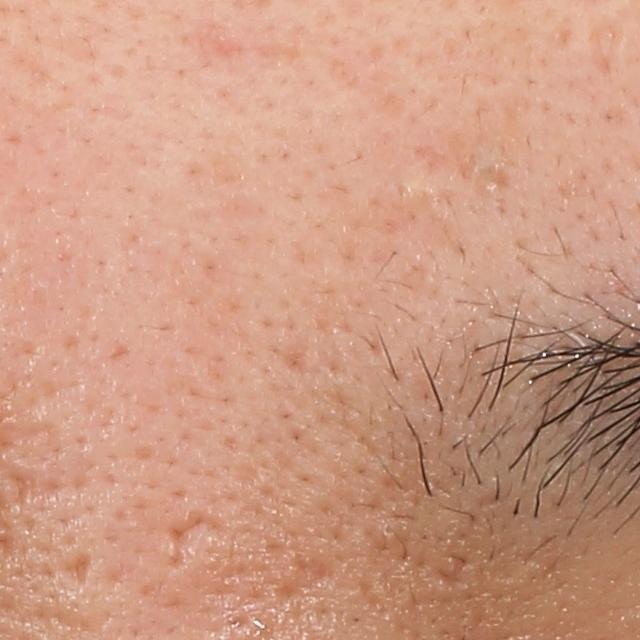atrophic_scar: (163, 512, 213, 571), (281, 553, 331, 603), (585, 19, 620, 71), (59, 543, 96, 590), (432, 550, 464, 582)
comedo: (478, 170, 507, 200)
